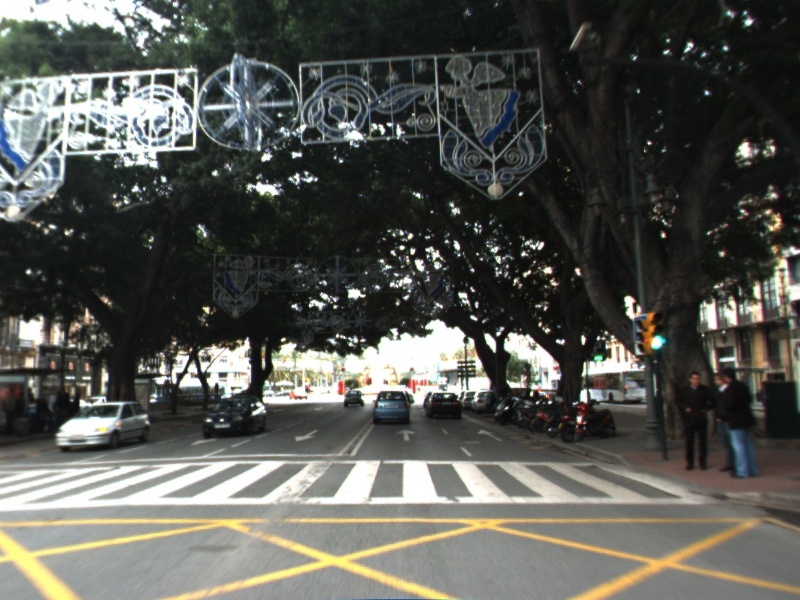STRAIGHT: (475, 427, 505, 443), (394, 427, 418, 443)
